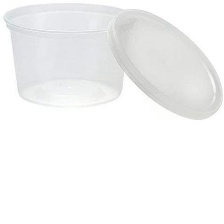glass: (0, 2, 139, 109)
